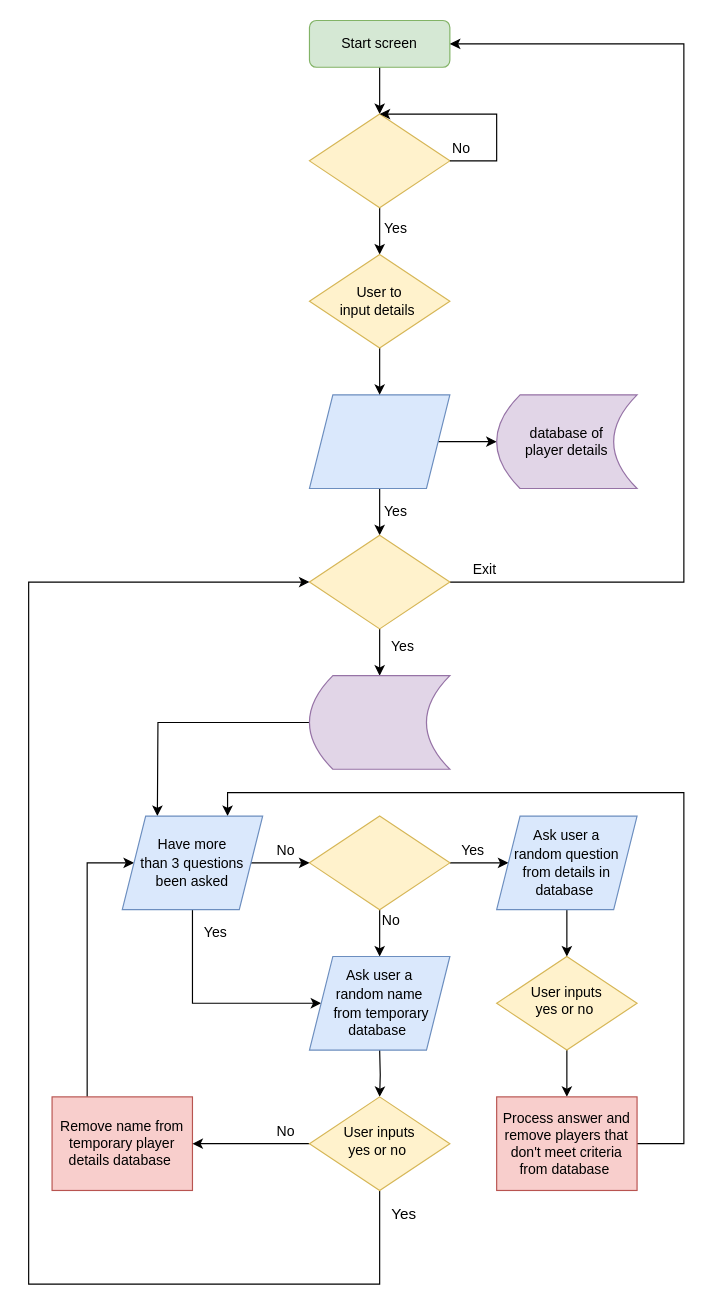
The diagram is 714 pixels wide and 1314 high, and some of its shapes have lost their labels. Here are the shapes that lost their labels. From the top down, the box of each, then its label:
(308, 113, 450, 208): Ask user if they want to play
(308, 394, 450, 488): Players details are added to the current database
(308, 534, 450, 629): Ask user if They're ready to play
(308, 675, 450, 769): Create a temporary database of player details
(308, 815, 450, 910): Are there any categories that left in data base
